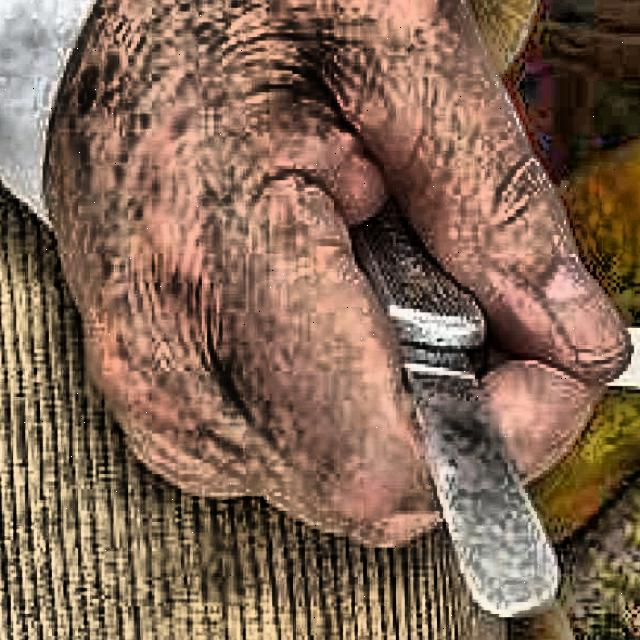knife: (352, 201, 560, 617)
